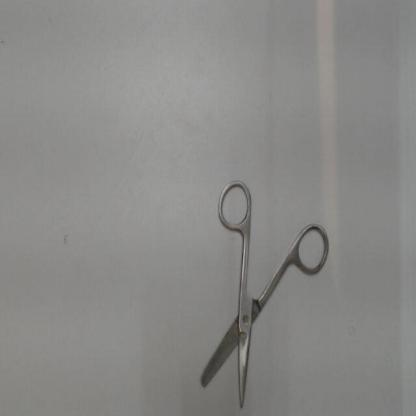Dressing Scissors: (190, 170, 336, 413)
